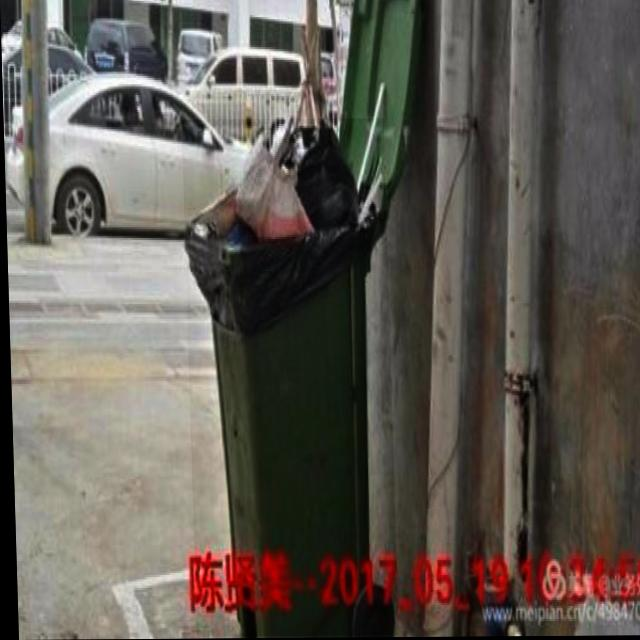overflow: (181, 119, 395, 637)
